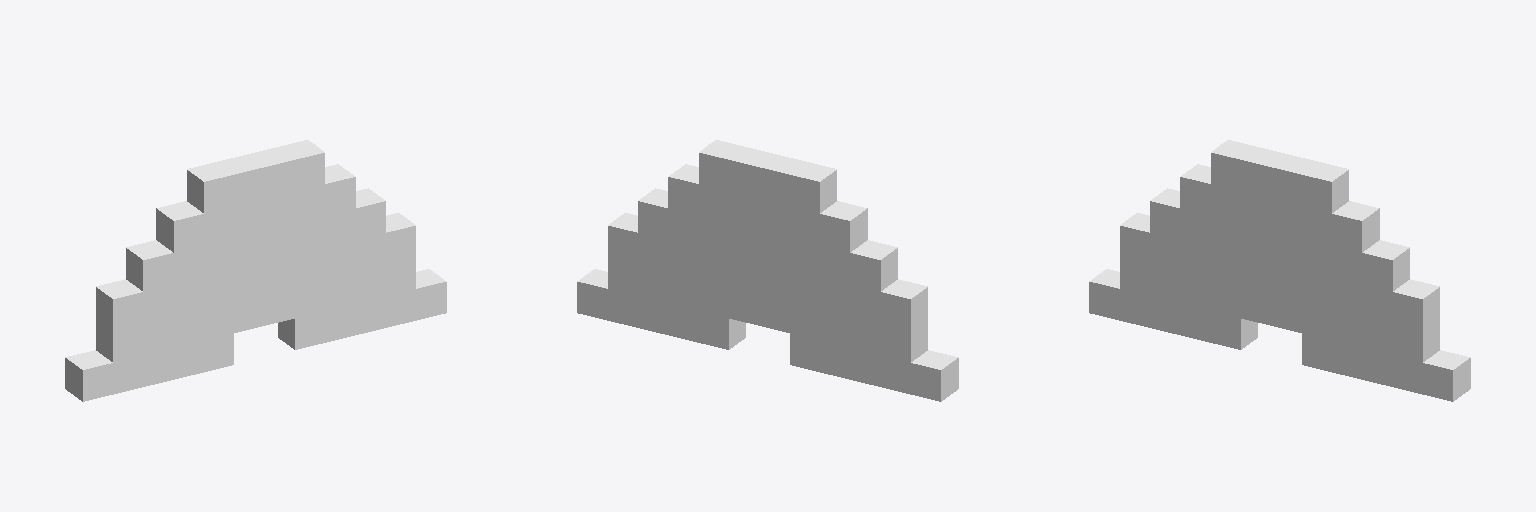
The model's file is grandma death.obj.
The picture shows the model from 3 angles: view 1: azimuth 30°, elevation 25°; view 2: azimuth 150°, elevation 25°; view 3: azimuth 330°, elevation 25°; orthographic projection.
Parts seen in each view (by area): view 1: object 1; view 2: object 1; view 3: object 1.
Boxes of the visible parts, <box> form: object 1: <box>65,140,446,401</box>; object 1: <box>577,140,958,401</box>; object 1: <box>1089,140,1470,401</box>.
Size of the model in its own units: 1.2 by 0.6 by 0.1.